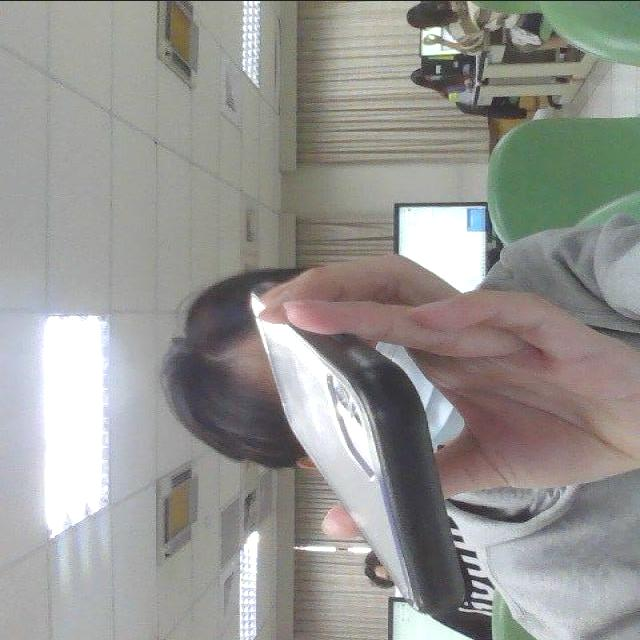ph: (246, 260, 472, 636)
